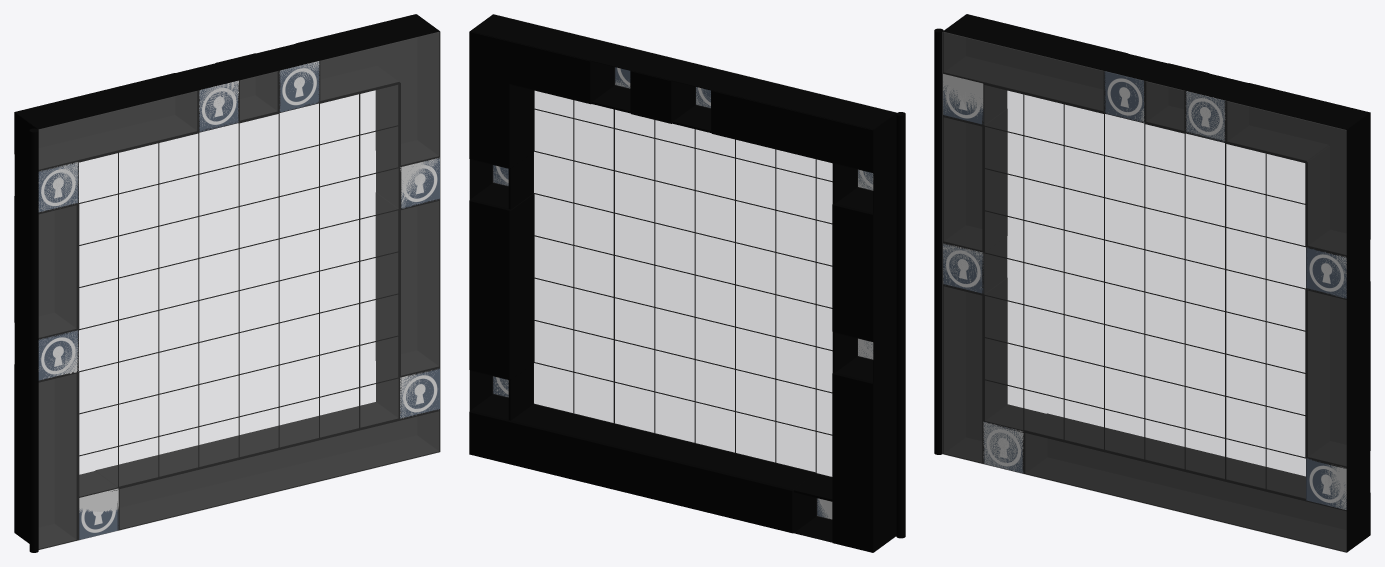
File: boxPuzzle.fbx
3 views of the same model, side by side, from view 1: azimuth 30°, elevation 25°; view 2: azimuth 150°, elevation 25°; view 3: azimuth 330°, elevation 25° (orthographic).
Parts seen in each view (by area): view 1: Cube, Plane.003, Cube.006, Cube.007, Plane.004, Plane.001, Plane.006, Plane.005, Cube.001, Plane.002; view 2: Cube, Cube.006, Cube.007, Cube.004, Cube.005, Cube.001, Cube.003, Cube.002; view 3: Cube, Plane.006, Plane, Plane.003, Cube.004, Cube.001, Plane.002, Plane.005, Cube.005.
Boxes of the visible parts, bbox=[...] form: Cube: bbox=[14, 14, 440, 552]; Plane.003: bbox=[38, 162, 78, 211]; Cube.006: bbox=[376, 151, 401, 209]; Cube.007: bbox=[376, 361, 401, 419]; Plane.004: bbox=[400, 158, 439, 207]; Plane.001: bbox=[199, 80, 238, 127]; Plane.006: bbox=[79, 488, 118, 513]; Plane.005: bbox=[400, 370, 436, 418]; Cube.001: bbox=[79, 471, 118, 497]; Plane.002: bbox=[38, 331, 78, 379]; Cube: bbox=[469, 14, 905, 552]; Cube.006: bbox=[508, 152, 533, 209]; Cube.007: bbox=[508, 363, 533, 420]; Cube.004: bbox=[832, 332, 857, 372]; Cube.005: bbox=[832, 163, 857, 203]; Cube.001: bbox=[793, 473, 832, 501]; Cube.003: bbox=[592, 85, 630, 113]; Cube.002: bbox=[672, 104, 710, 132]; Cube: bbox=[934, 14, 1370, 552]; Plane.006: bbox=[983, 422, 1023, 472]; Plane: bbox=[1186, 91, 1225, 140]; Plane.003: bbox=[943, 74, 983, 116]; Cube.004: bbox=[982, 236, 1007, 294]; Cube.001: bbox=[983, 404, 1045, 432]; Plane.002: bbox=[943, 243, 983, 291]; Plane.005: bbox=[1321, 464, 1346, 509]; Cube.005: bbox=[982, 84, 1007, 125].
Bounding box in the file's own units: 2041 × 2002 × 225.
52 materials, 7 textured.
